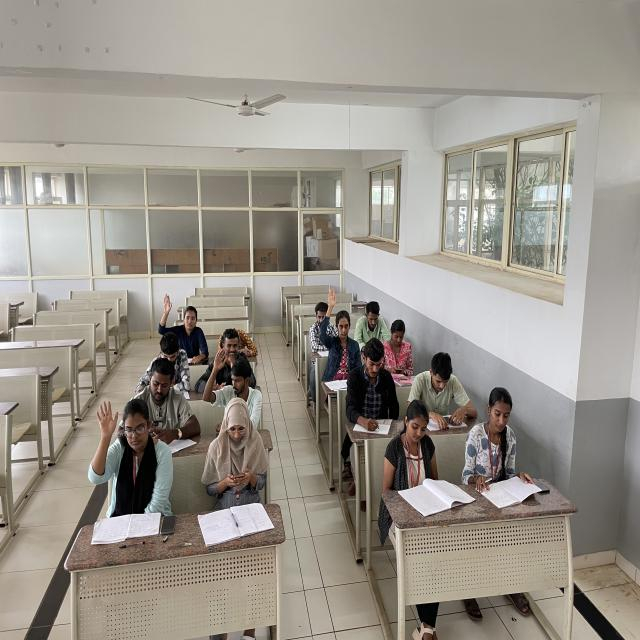Hand Rising: (89, 396, 175, 506), (204, 346, 262, 423), (316, 282, 362, 370), (158, 294, 210, 353)
Reading: (378, 403, 468, 509), (463, 385, 533, 470)
Sleeping: (218, 323, 264, 356)
Using Phone: (202, 400, 276, 509), (138, 362, 198, 444), (381, 319, 417, 372), (356, 304, 390, 343)
Writing: (346, 334, 401, 431)
